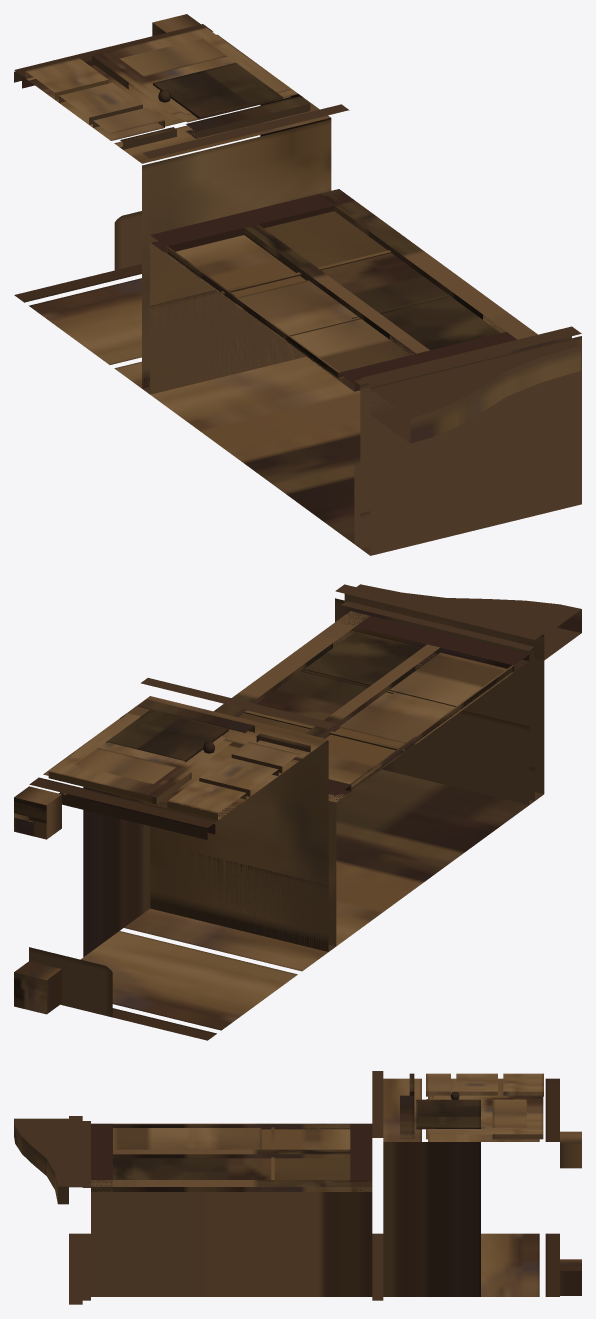
File: section-3.obj
3 views of the same model, one above another, from view 1: azimuth 30°, elevation 25°; view 2: azimuth 150°, elevation 25°; view 3: azimuth 270°, elevation 25° (orthographic). The views are drawn at different scales.
Bounding box in the file's own units: 0.61 × 0.668 × 2.06.
